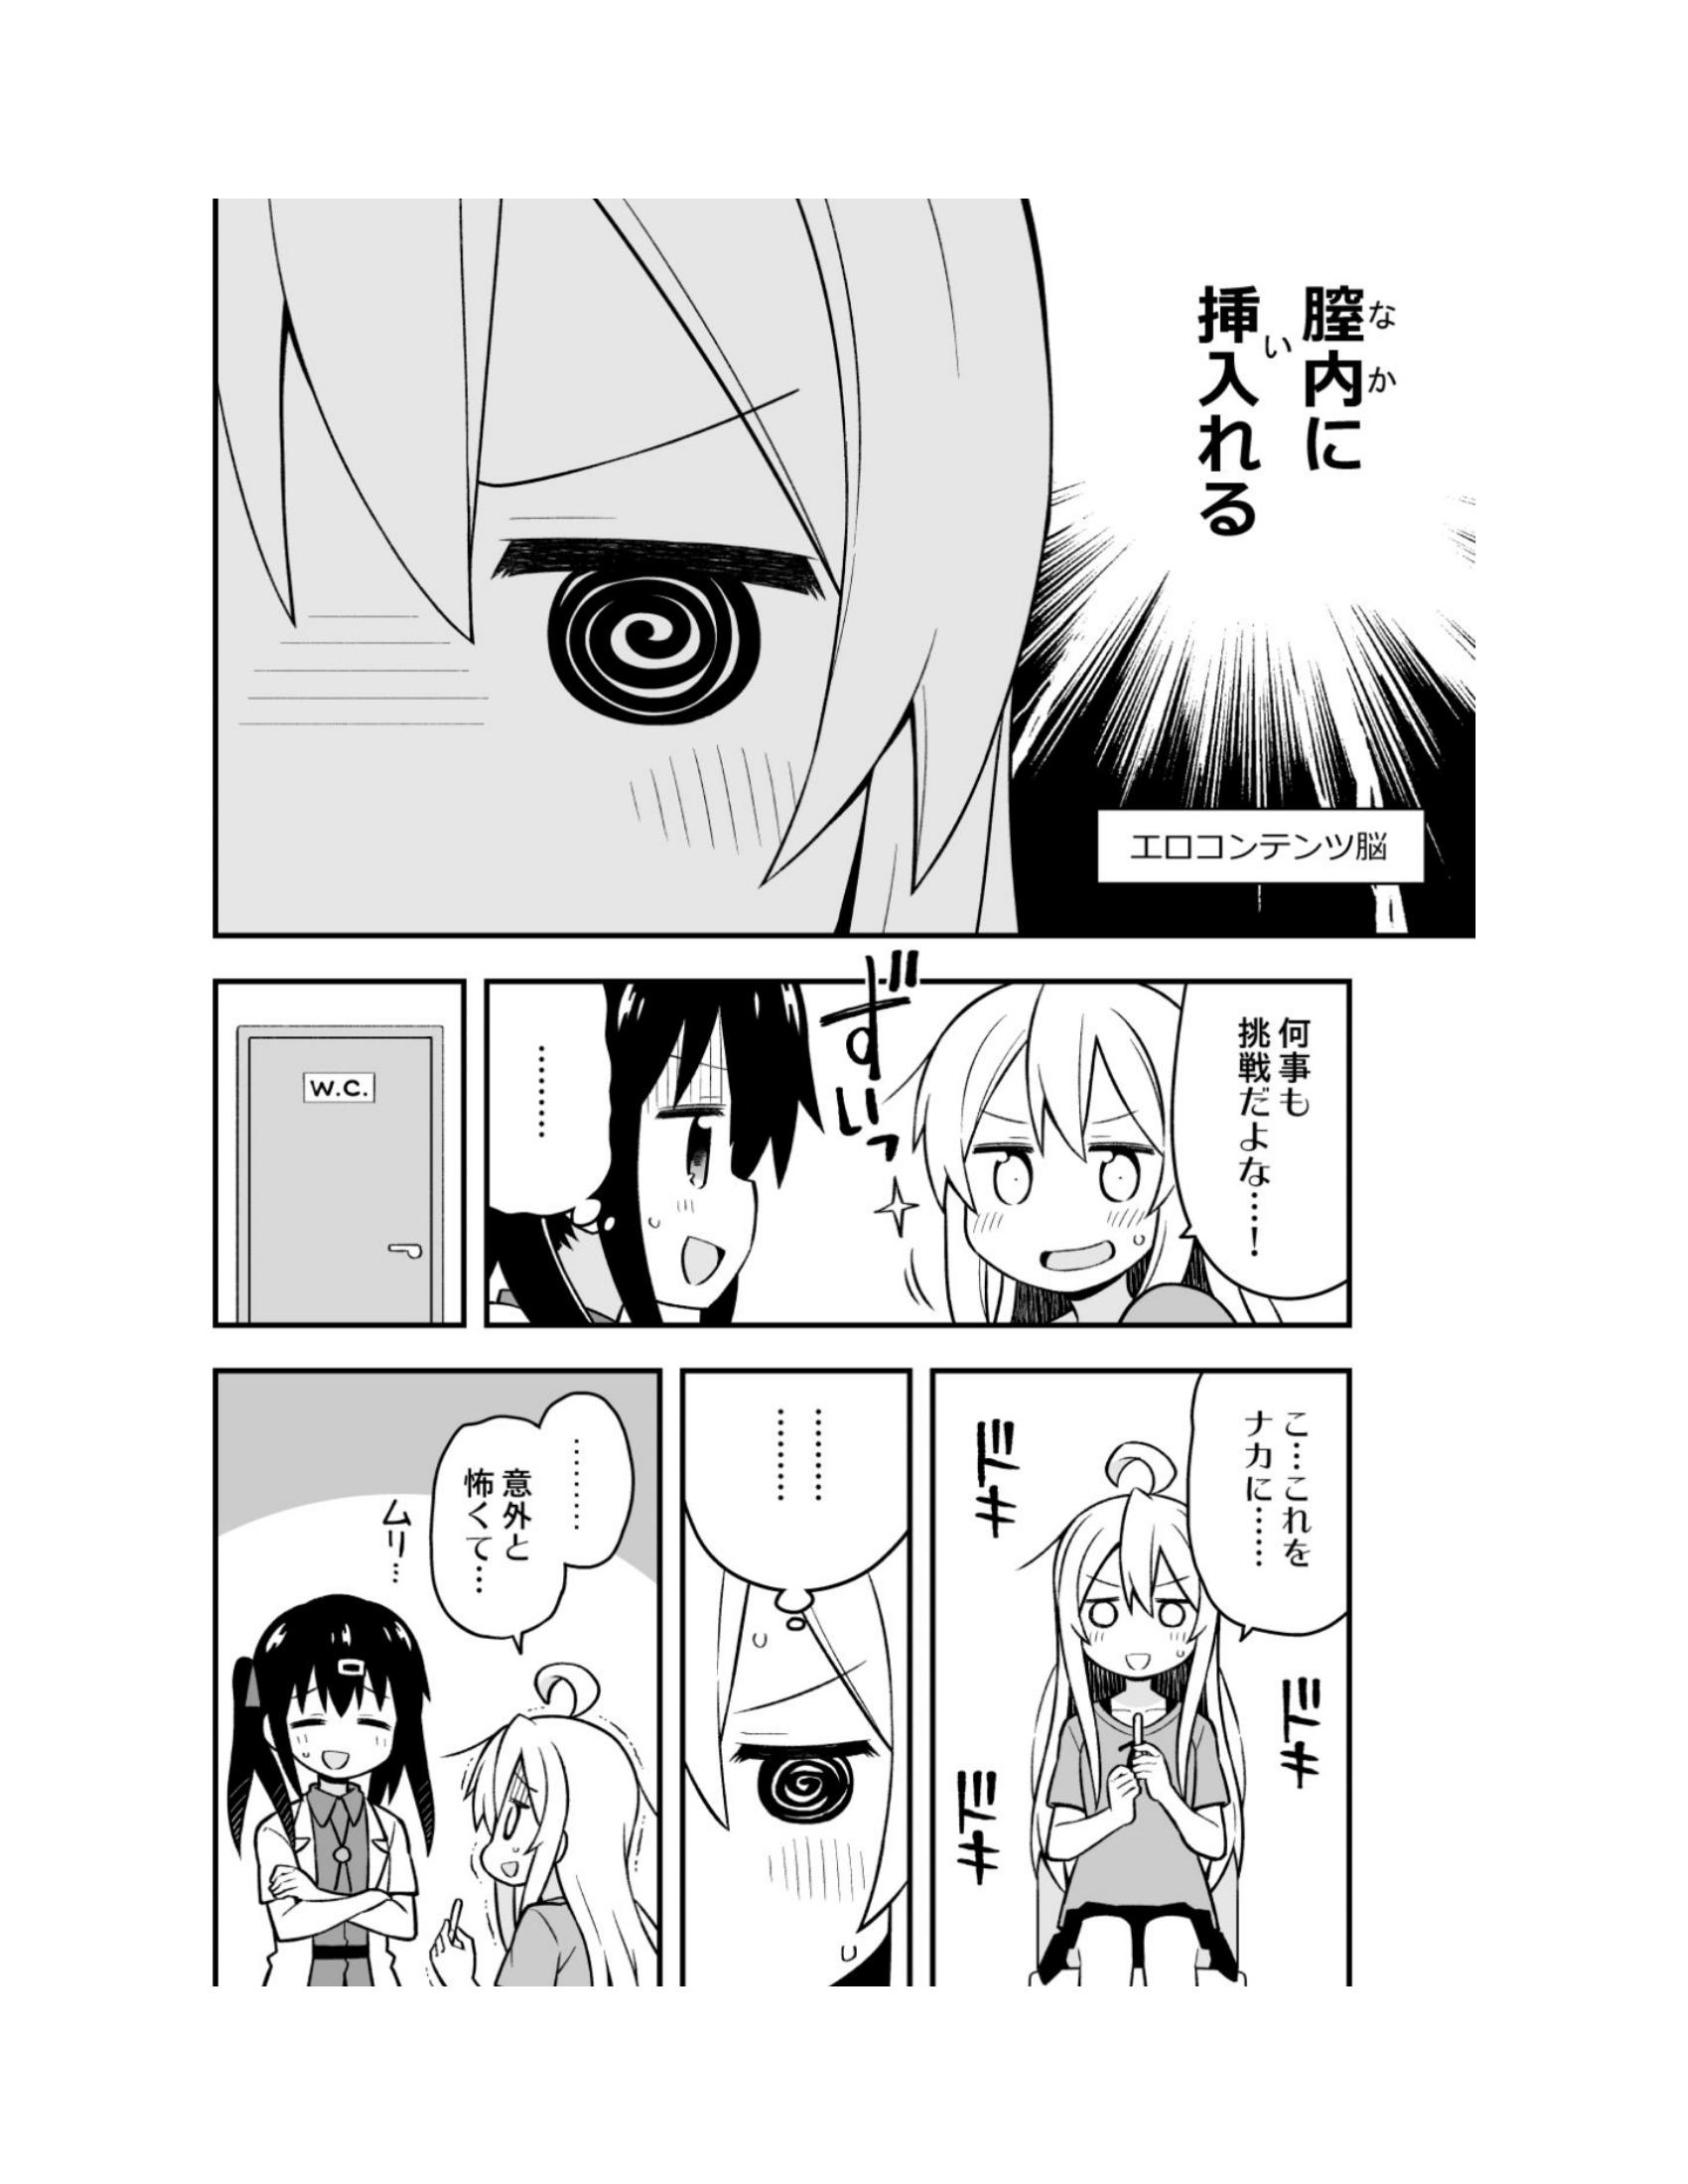a: (1156, 1370, 1376, 1675), (433, 1409, 672, 1686), (1174, 970, 1339, 1299)
